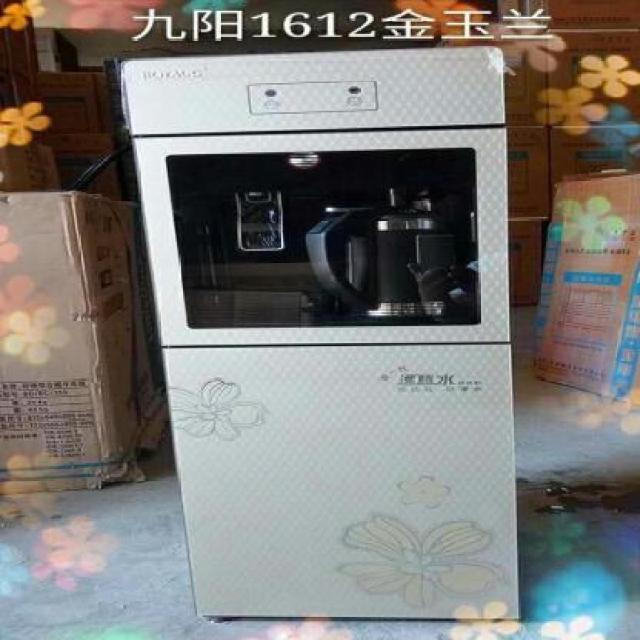cooler: (120, 42, 532, 629)
